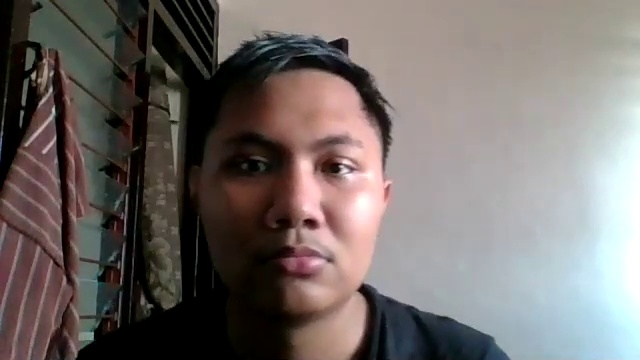Not Distracted: (192, 92, 389, 308)
